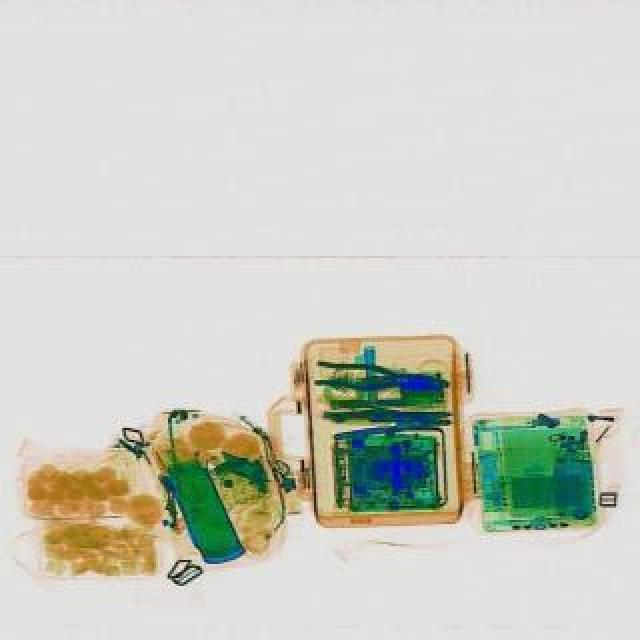wrench: (310, 358, 448, 398)
